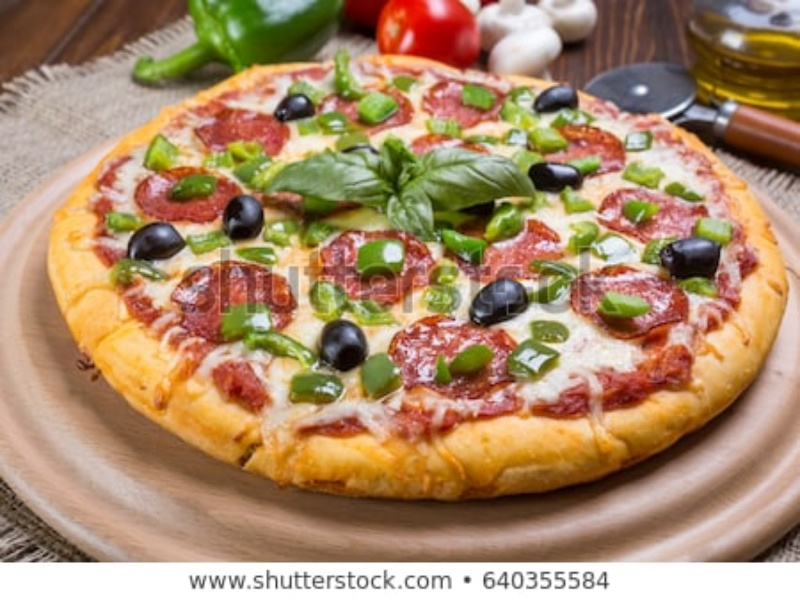olive noir: (306, 315, 376, 368), (457, 279, 538, 323), (211, 189, 278, 242), (663, 227, 723, 282), (125, 217, 188, 262), (521, 83, 581, 115), (531, 158, 580, 196), (274, 93, 323, 120)
pepperonis: (383, 316, 539, 396), (589, 184, 712, 246), (199, 102, 296, 174), (411, 72, 512, 134)
